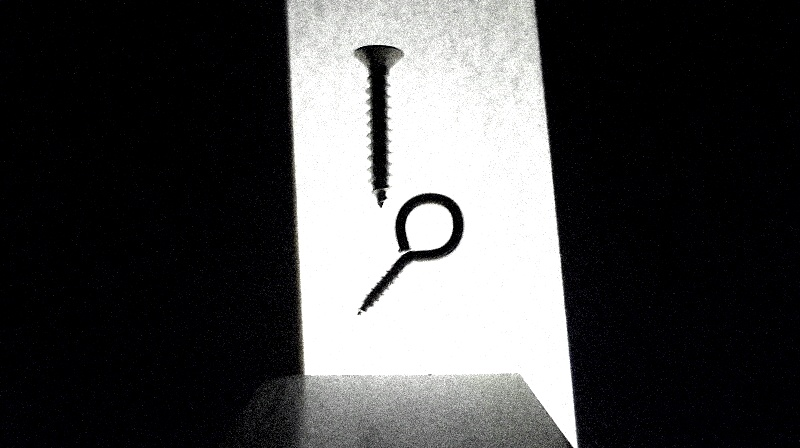O001: (355, 190, 464, 315)
S001: (352, 44, 404, 209)
